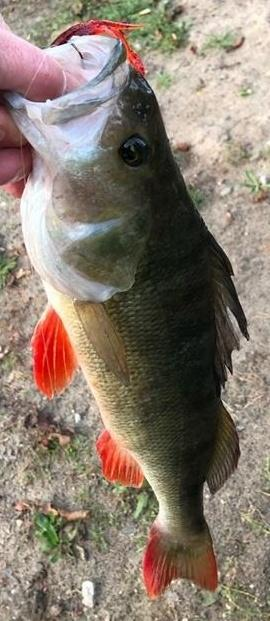Perch: (17, 22, 252, 602)
